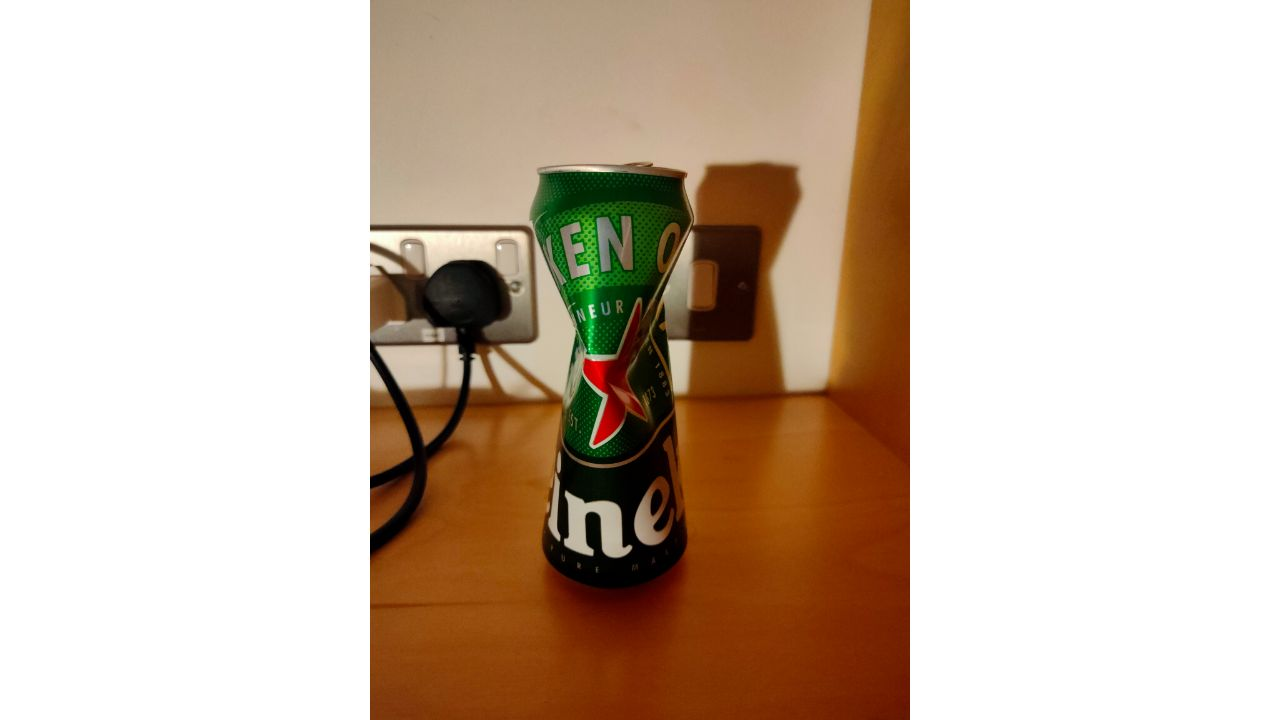Can: (531, 161, 699, 589)
